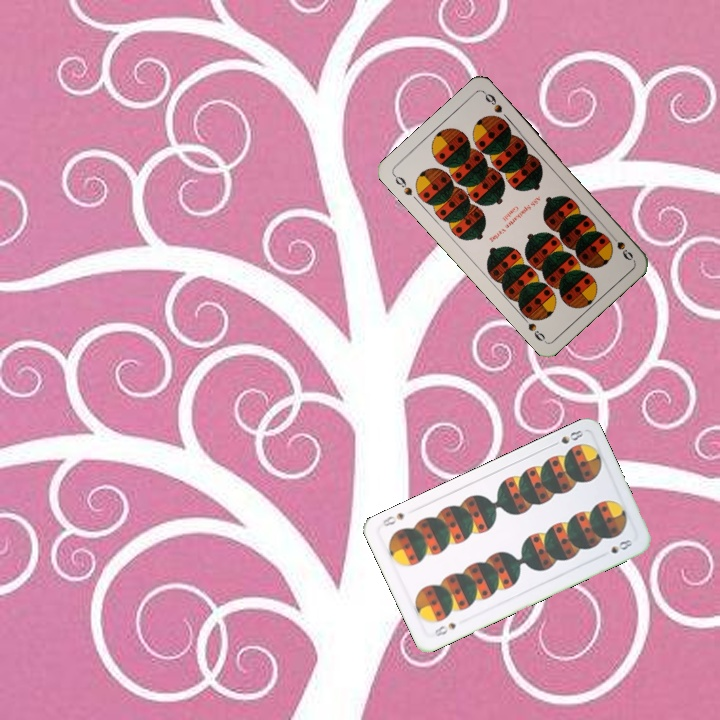S8: (547, 426, 586, 449), (428, 618, 459, 640)
S9: (605, 229, 636, 263), (389, 170, 415, 198)
